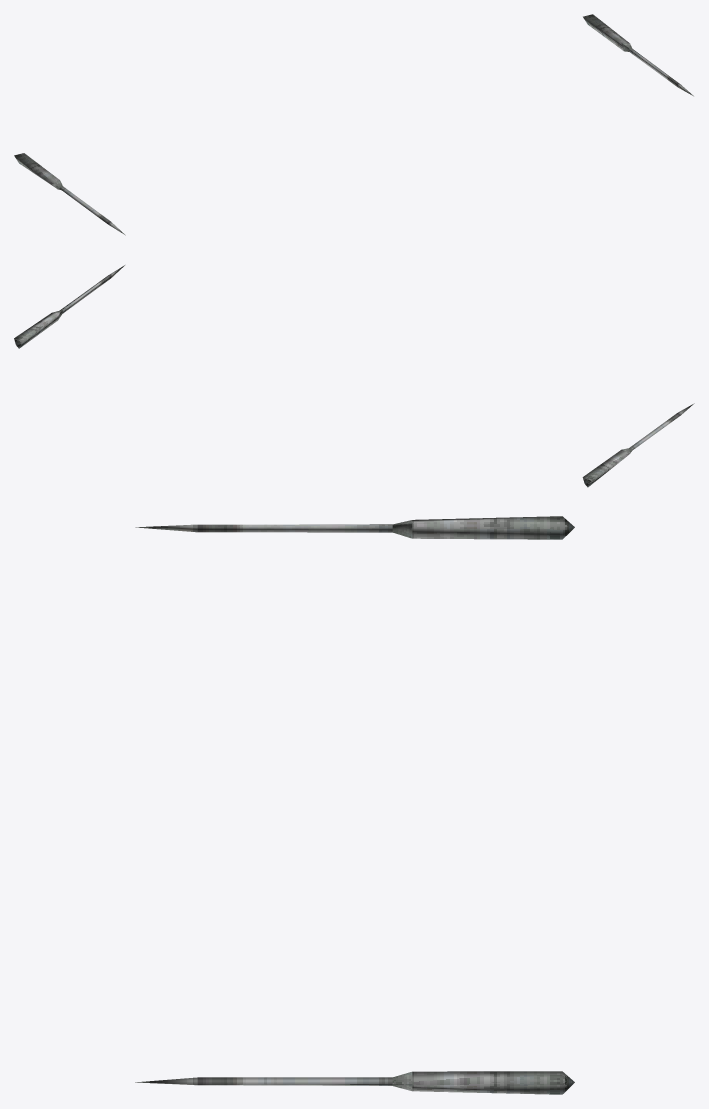
File: hutt_fighter_heavy_weapon2_s05_l3.fbx
3 renders of one model, top to bottom at view 1: azimuth 30°, elevation 25°; view 2: azimuth 150°, elevation 25°; view 3: azimuth 270°, elevation 25°, orthographic. The views are drawn at different scales.
Parts seen in each view (by area): view 1: mesh_node; view 2: mesh_node; view 3: mesh_node.
Part boxes in pixels (x1,y1,x2,y2): mesh_node: (14,14,693,235); mesh_node: (14,265,694,487); mesh_node: (135,516,574,1094).
Bounding box in the file's own units: 26.42 × 0.4309 × 8.72.
Materials: 1 (1 with a texture image).
